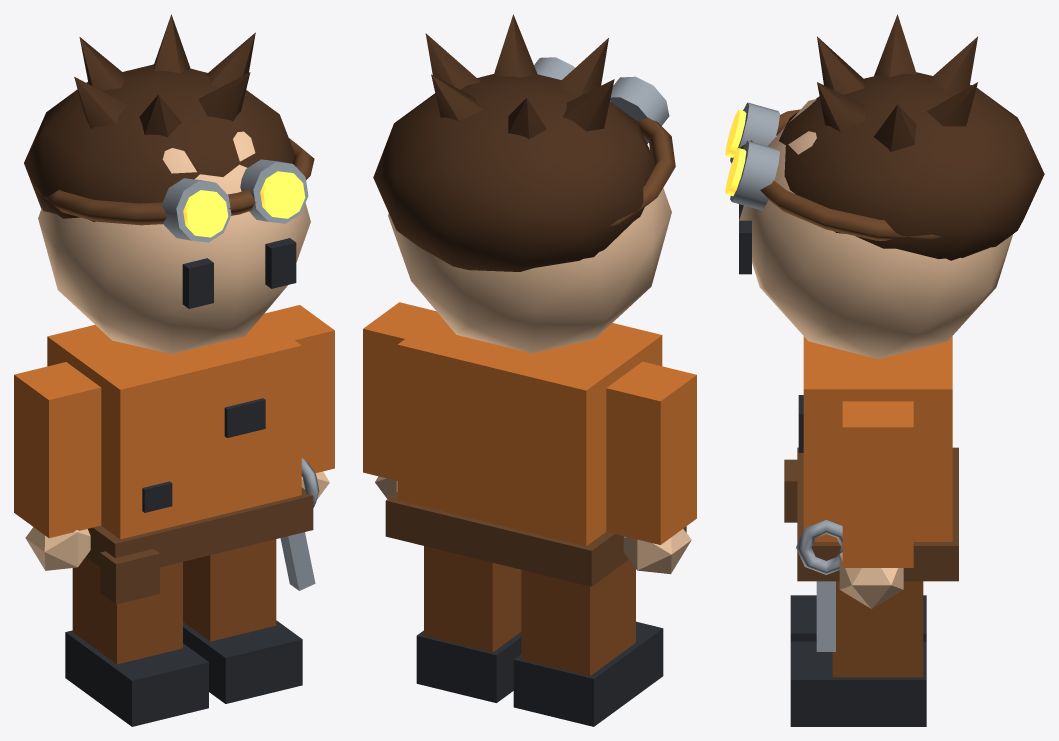
The model's file is ren.glb.
3 views of the same model, side by side, from view 1: azimuth 30°, elevation 25°; view 2: azimuth 150°, elevation 25°; view 3: azimuth 270°, elevation 25° (orthographic). The views are drawn at different scales.
Visible parts, largest first — view 1: head, torso, legR, armR, legL, armL; view 2: head, torso, legR, armR, legL, armL; view 3: head, torso, legL, armL, legR.
Boxes of the visible parts, x1,y1,x2,y2 form: head: [24, 14, 314, 353]; torso: [47, 317, 319, 604]; legR: [65, 557, 208, 726]; armR: [14, 362, 101, 570]; legL: [183, 539, 302, 703]; armL: [262, 305, 334, 499]; head: [373, 14, 675, 353]; torso: [385, 314, 686, 586]; legR: [513, 560, 663, 726]; armR: [606, 361, 696, 574]; legL: [416, 546, 521, 702]; armL: [363, 302, 438, 498]; head: [725, 14, 1044, 359]; torso: [784, 336, 958, 651]; legL: [790, 581, 926, 726]; armL: [839, 401, 913, 608]; legR: [790, 595, 926, 641].
Size of the model in its own units: 0.52 by 1.07 by 0.4934.
